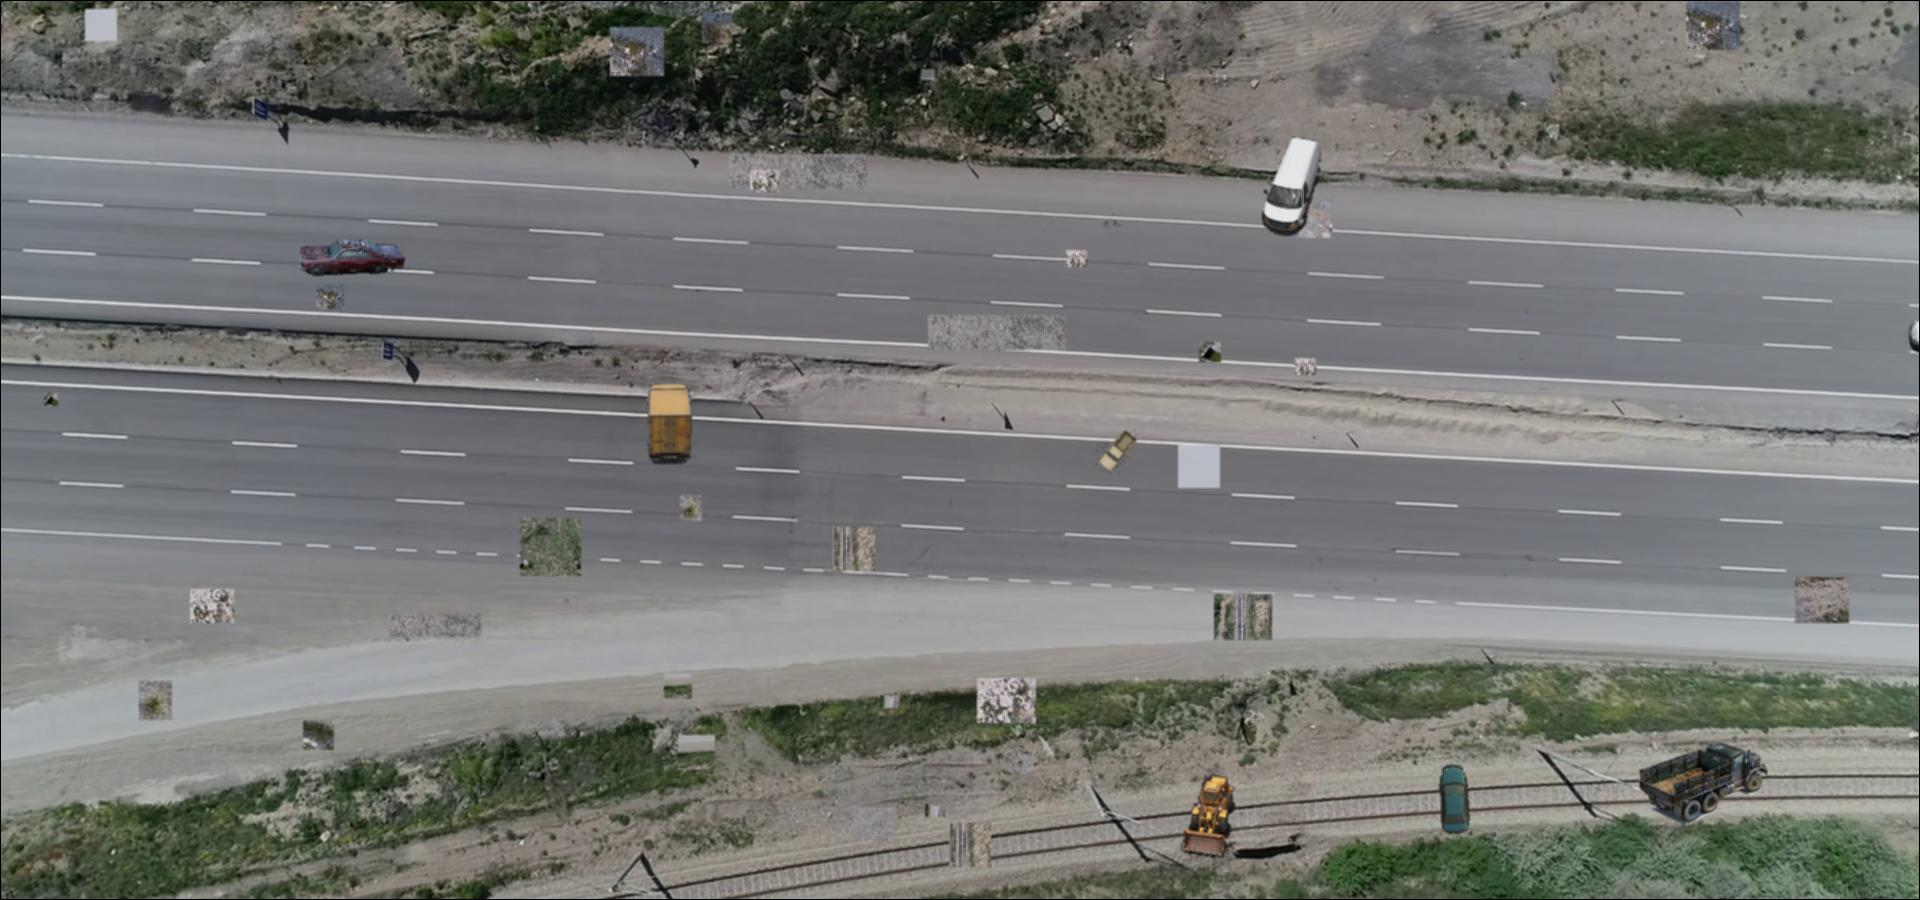arac: (1636, 740, 1767, 823), (1262, 135, 1322, 236), (1173, 769, 1238, 860), (647, 381, 696, 469), (298, 240, 407, 277), (1438, 764, 1472, 835), (1096, 430, 1139, 473)
